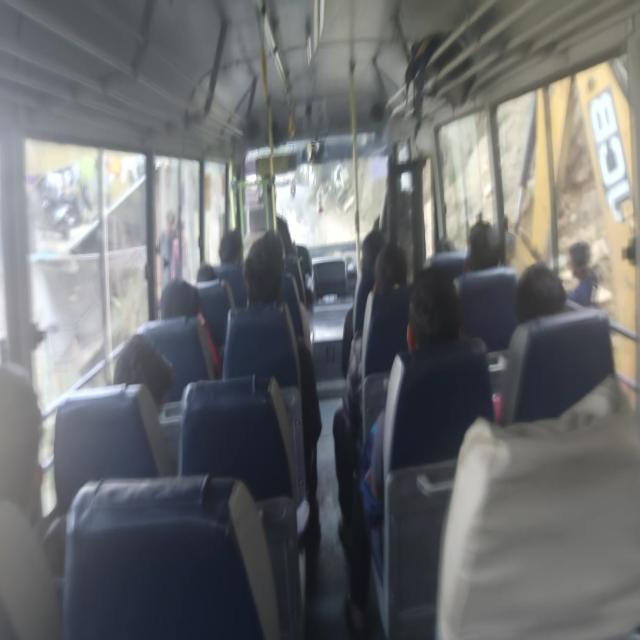person: (0, 353, 52, 518), (408, 258, 462, 356), (113, 328, 179, 398), (235, 234, 289, 301), (510, 265, 566, 326), (466, 209, 501, 282), (151, 274, 205, 316), (374, 249, 408, 308), (359, 218, 386, 292), (378, 187, 414, 227), (260, 165, 286, 209), (429, 226, 458, 264), (218, 221, 240, 264), (192, 259, 220, 291), (266, 224, 288, 260)
